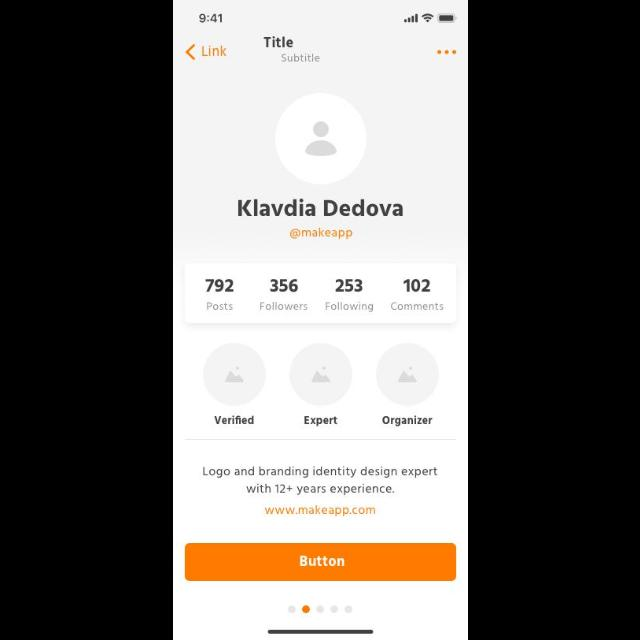icon: (274, 94, 366, 186), (186, 45, 196, 61), (436, 50, 456, 54)
image: (202, 343, 266, 405), (376, 344, 438, 406), (290, 343, 352, 405)
pageindicator: (287, 604, 353, 614)
text: (202, 466, 436, 496), (238, 198, 404, 218), (264, 506, 376, 516), (290, 228, 352, 240), (324, 302, 374, 312), (382, 416, 432, 426), (390, 302, 444, 310), (214, 415, 254, 425), (260, 302, 308, 310), (304, 417, 338, 428), (203, 280, 234, 292), (270, 280, 298, 292), (402, 280, 430, 292), (262, 38, 294, 48), (281, 54, 321, 62), (336, 280, 362, 292), (202, 46, 226, 58), (206, 304, 234, 310)
textbutton: (186, 544, 457, 580)
uppertaskbar: (198, 12, 458, 24)
